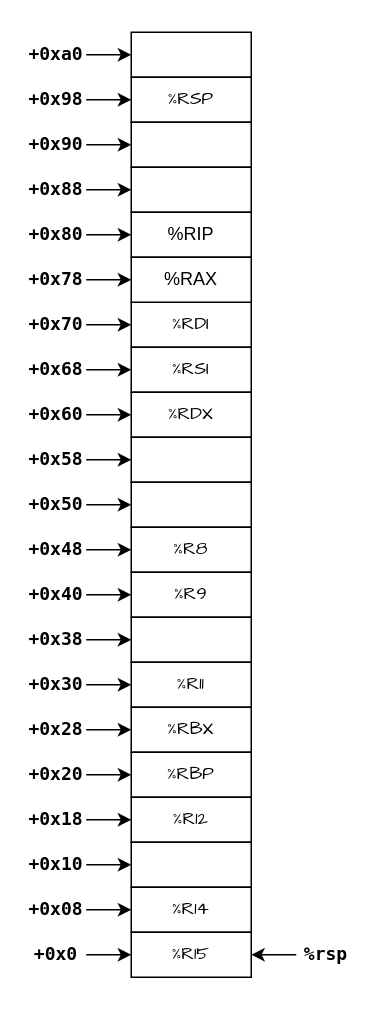
Image size: 381x1010. Some labels were removed from this diagram. The shapes that lost their labels are listed below. From the top down, each one's box as (x1, y1, x2, y2) in pixels, then its label:
(130, 31, 251, 77): %__USER_DS
(130, 121, 251, 167): %RFLAGS
(130, 166, 251, 212): %__USER_CS
(130, 436, 251, 482): %RCX
(130, 481, 251, 527): $-ENOSYS
(130, 616, 251, 662): %R10
(130, 841, 251, 887): %R13
